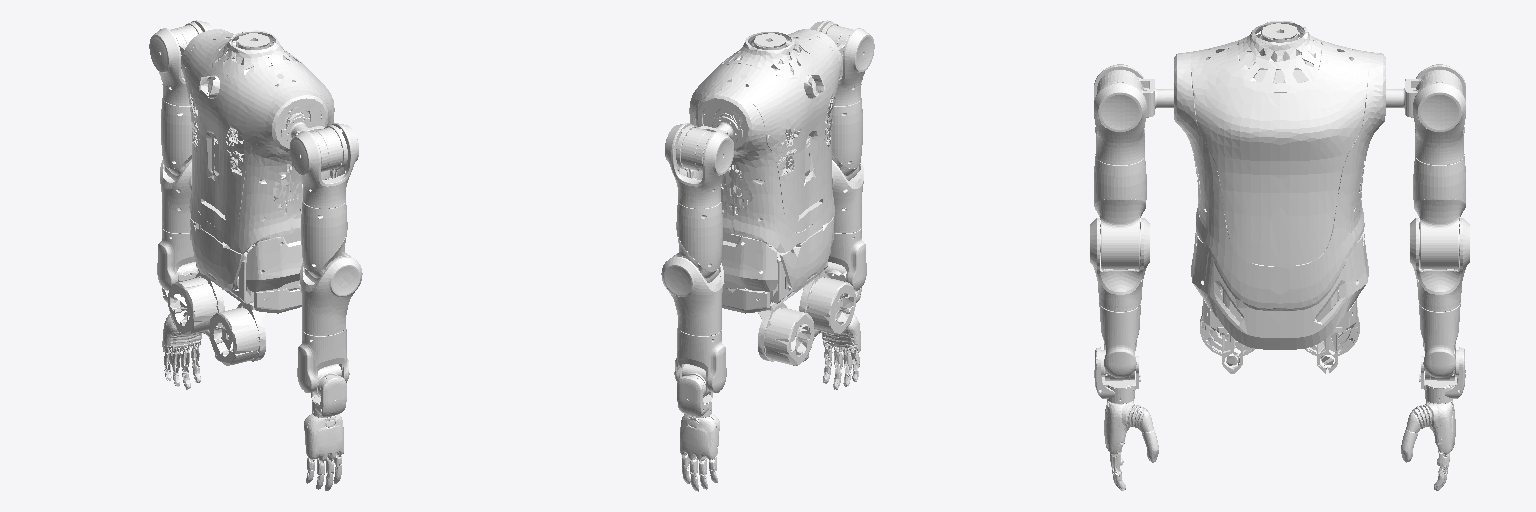
robot.urdf — biped_s47:
<?xml version='1.0' encoding='utf-8'?>
<robot name="biped_s47">
  <mujoco>
    <compiler meshdir="../meshes/" balanceinertia="true" discardvisual="false" />
  </mujoco>
  <link name="base_link">
    <inertial>
      <origin xyz="-0.0185005 0.00031952 0.1929569" rpy="0 0 0" />
      <mass value="27.65693803" />
      <inertia ixx="0.93103133" ixy="0.00011763" ixz="-0.07210993" iyy="0.82590532" iyz="6.9e-05" izz="0.27686612" />
    </inertial>
    <visual>
      <origin xyz="0 0 0" rpy="0 0 0" />
      <geometry>
        <mesh filename="../../meshes/torso.STL" />
      </geometry>
      <material name="">
        <color rgba="1 1 1 1" />
      </material>
    </visual>
  </link>
  <link name="zarm_l1_link">
    <inertial>
      <origin xyz="-0.00083 -0.02218 0.00035" rpy="0 0 0" />
      <mass value="0.962" />
      <inertia ixx="0.00225" ixy="-3e-05" ixz="0.0" iyy="0.00099" iyz="-2e-05" izz="0.00227" />
    </inertial>
    <visual>
      <origin xyz="0 0 0" rpy="0 0 0" />
      <geometry>
        <mesh filename="../../meshes/l_arm_pitch.STL" />
      </geometry>
      <material name="">
        <color rgba="1 1 1 1" />
      </material>
    </visual>
  </link>
  <joint name="zarm_l1_joint" type="revolute">
    <origin xyz="-0.017499853 0.29269999999999996 0.4245" rpy="0 0 0" />
    <parent link="base_link" />
    <child link="zarm_l1_link" />
    <axis xyz="0 1 0" />
    <limit lower="-3.14159265358979" upper="1.5707963267949" effort="100.0" velocity="41.3433333333333" />
    <dynamics damping="0.2" friction="0.0" />
  </joint>
  <link name="zarm_l2_link">
    <inertial>
      <origin xyz="-0.00791 0.0 -0.04655" rpy="0 0 0" />
      <mass value="0.57" />
      <inertia ixx="0.00163" ixy="0.0" ixz="5e-05" iyy="0.00211" iyz="0.0" izz="0.00122" />
    </inertial>
    <visual>
      <origin xyz="0 0 0" rpy="0 0 0" />
      <geometry>
        <mesh filename="../../meshes/l_arm_roll.STL" />
      </geometry>
      <material name="">
        <color rgba="1 1 1 1" />
      </material>
    </visual>
  </link>
  <joint name="zarm_l2_joint" type="revolute">
    <origin xyz="0 0 0" rpy="0 0 0" />
    <parent link="zarm_l1_link" />
    <child link="zarm_l2_link" />
    <axis xyz="1 0 0" />
    <limit lower="-0.349065850398866" upper="2.0943951023932" effort="50.0" velocity="8.37333333333333" />
    <dynamics damping="0.2" friction="0.0" />
  </joint>
  <link name="zarm_l3_link">
    <inertial>
      <origin xyz="0.00628 0.00107 -0.20878" rpy="0 0 0" />
      <mass value="1.65" />
      <inertia ixx="0.00815" ixy="-4e-05" ixz="0.00085" iyy="0.00828" iyz="0.00014" izz="0.00206" />
    </inertial>
    <visual>
      <origin xyz="0 0 0" rpy="0 0 0" />
      <geometry>
        <mesh filename="../../meshes/l_arm_yaw.STL" />
      </geometry>
      <material name="">
        <color rgba="1 1 1 1" />
      </material>
    </visual>
  </link>
  <joint name="zarm_l3_joint" type="revolute">
    <origin xyz="0 0 0" rpy="0 0 0" />
    <parent link="zarm_l2_link" />
    <child link="zarm_l3_link" />
    <axis xyz="0 0 1" />
    <limit lower="-1.5707963267949" upper="1.5707963267949" effort="39.0" velocity="19.3633333333333" />
    <dynamics damping="0.2" friction="0.0" />
  </joint>
  <link name="zarm_l4_link">
    <inertial>
      <origin xyz="-0.01611 0.00143 -0.04857" rpy="0 0 0" />
      <mass value="0.429" />
      <inertia ixx="0.00135" ixy="0.0" ixz="-0.0001" iyy="0.00114" iyz="0.0" izz="0.00083" />
    </inertial>
    <visual>
      <origin xyz="0 0 0" rpy="0 0 0" />
      <geometry>
        <mesh filename="../../meshes/l_forearm.STL" />
      </geometry>
      <material name="">
        <color rgba="1 1 1 1" />
      </material>
    </visual>
  </link>
  <joint name="zarm_l4_joint" type="revolute">
    <origin xyz="0.0199999999999998 0 -0.2837" rpy="0 0 0" />
    <parent link="zarm_l3_link" />
    <child link="zarm_l4_link" />
    <axis xyz="0 1 0" />
    <limit lower="-2.61799387799149" upper="0.0" effort="50.0" velocity="8.37333333333333" />
    <dynamics damping="0.2" friction="0.0" />
  </joint>
  <link name="zarm_l5_link">
    <inertial>
      <origin xyz="-0.00207 0.00018 -0.05079" rpy="0 0 0" />
      <mass value="0.61" />
      <inertia ixx="0.00107" ixy="0.0" ixz="-4e-05" iyy="0.00146" iyz="0.0" izz="0.00083" />
    </inertial>
    <visual>
      <origin xyz="0 0 0" rpy="0 0 0" />
      <geometry>
        <mesh filename="../../meshes/l_hand_yaw.STL" />
      </geometry>
      <material name="">
        <color rgba="1 1 1 1" />
      </material>
    </visual>
  </link>
  <joint name="zarm_l5_joint" type="revolute">
    <origin xyz="-0.0200000000000001 0 -0.127037274261587" rpy="0 0 0" />
    <parent link="zarm_l4_link" />
    <child link="zarm_l5_link" />
    <axis xyz="0 0 1" />
    <limit lower="-1.5707963267949" upper="1.5707963267949" effort="12.0" velocity="7.32666666666667" />
    <dynamics damping="0.2" friction="0.0" />
  </joint>
  <link name="zarm_l6_link">
    <inertial>
      <origin xyz="-0.00091 0.00326 -0.01338" rpy="0 0 0" />
      <mass value="0.331" />
      <inertia ixx="0.00022" ixy="0.0" ixz="0.0" iyy="0.00027" iyz="0.0" izz="0.00028" />
    </inertial>
    <visual>
      <origin xyz="0 0 0" rpy="0 0 0" />
      <geometry>
        <mesh filename="../../meshes/l_hand_roll.STL" />
      </geometry>
      <material name="">
        <color rgba="1 1 1 1" />
      </material>
    </visual>
  </link>
  <joint name="zarm_l6_joint" type="revolute">
    <origin xyz="0 0 -0.106462725738415" rpy="0 0 0" />
    <parent link="zarm_l5_link" />
    <child link="zarm_l6_link" />
    <axis xyz="1 0 0" />
    <limit lower="-1.30899693899575" upper="0.698131700797732" effort="12.0" velocity="7.32666666666667" />
    <dynamics damping="0.2" friction="0.0" />
  </joint>
  <link name="zarm_l7_link">
    <inertial>
      <origin xyz="3e-05 0.00038 -0.07987" rpy="0 0 0" />
      <mass value="0.36" />
      <inertia ixx="0.00023" ixy="0.0" ixz="0.0" iyy="0.00023" iyz="-2e-05" izz="9e-05" />
    </inertial>
    <visual>
      <origin xyz="0 0 0" rpy="0 0 0" />
      <geometry>
        <mesh filename="../../meshes/l_hand_pitch.STL" />
      </geometry>
      <material name="">
        <color rgba="1 1 1 1" />
      </material>
    </visual>
  </link>
  <joint name="zarm_l7_joint" type="revolute">
    <origin xyz="0 0 -0.0209999999999998" rpy="0 0 0" />
    <parent link="zarm_l6_link" />
    <child link="zarm_l7_link" />
    <axis xyz="0 1 0" />
    <limit lower="-0.698131700797732" upper="0.698131700797732" effort="12.0" velocity="7.32666666666667" />
    <dynamics damping="0.2" friction="0.0" />
  </joint>
  <link name="zarm_l7_end_effector">
    <collision>
      <origin rpy="0 0 0" xyz="0 0 0" />
      <geometry>
        <sphere radius="0.005" />
      </geometry>
    </collision>
  </link>
  <joint name="zarm_l7_end_effector_joint" type="fixed">
    <origin xyz="0 -0.03 -0.17" rpy="0 0 0" />
    <parent link="zarm_l7_link" />
    <child link="zarm_l7_end_effector" />
  </joint>
  <link name="zarm_r1_link">
    <inertial>
      <origin xyz="-0.00083 0.02218 0.00035" rpy="0 0 0" />
      <mass value="0.962" />
      <inertia ixx="0.00225" ixy="3e-05" ixz="0.0" iyy="0.00099" iyz="2e-05" izz="0.00227" />
    </inertial>
    <visual>
      <origin xyz="0 0 0" rpy="0 0 0" />
      <geometry>
        <mesh filename="../../meshes/r_arm_pitch.STL" />
      </geometry>
      <material name="">
        <color rgba="1 1 1 1" />
      </material>
    </visual>
  </link>
  <joint name="zarm_r1_joint" type="revolute">
    <origin xyz="-0.017499853 -0.29269999999999996 0.4245" rpy="0 0 0" />
    <parent link="base_link" />
    <child link="zarm_r1_link" />
    <axis xyz="0 1 0" />
    <limit lower="-3.14159265358979" upper="1.5707963267949" effort="100.0" velocity="41.3433333333333" />
    <dynamics damping="0.2" friction="0.0" />
  </joint>
  <link name="zarm_r2_link">
    <inertial>
      <origin xyz="-0.00791 0.0 -0.04655" rpy="0 0 0" />
      <mass value="0.57" />
      <inertia ixx="0.00163" ixy="0.0" ixz="5e-05" iyy="0.00211" iyz="0.0" izz="0.00122" />
    </inertial>
    <visual>
      <origin xyz="0 0 0" rpy="0 0 0" />
      <geometry>
        <mesh filename="../../meshes/r_arm_roll.STL" />
      </geometry>
      <material name="">
        <color rgba="1 1 1 1" />
      </material>
    </visual>
  </link>
  <joint name="zarm_r2_joint" type="revolute">
    <origin xyz="0 0 0" rpy="0 0 0" />
    <parent link="zarm_r1_link" />
    <child link="zarm_r2_link" />
    <axis xyz="1 0 0" />
    <limit lower="-2.0943951023932" upper="0.349065850398866" effort="50.0" velocity="8.37333333333333" />
    <dynamics damping="0.2" friction="0.0" />
  </joint>
  <link name="zarm_r3_link">
    <inertial>
      <origin xyz="0.00628 -0.00107 -0.20878" rpy="0 0 0" />
      <mass value="1.65" />
      <inertia ixx="0.00815" ixy="4e-05" ixz="0.00085" iyy="0.00828" iyz="-0.00014" izz="0.00206" />
    </inertial>
    <visual>
      <origin xyz="0 0 0" rpy="0 0 0" />
      <geometry>
        <mesh filename="../../meshes/r_arm_yaw.STL" />
      </geometry>
      <material name="">
        <color rgba="1 1 1 1" />
      </material>
    </visual>
  </link>
  <joint name="zarm_r3_joint" type="revolute">
    <origin xyz="0 0 0" rpy="0 0 0" />
    <parent link="zarm_r2_link" />
    <child link="zarm_r3_link" />
    <axis xyz="0 0 1" />
    <limit lower="-1.5707963267949" upper="1.5707963267949" effort="39.0" velocity="18.84" />
    <dynamics damping="0.2" friction="0.0" />
  </joint>
  <link name="zarm_r4_link">
    <inertial>
      <origin xyz="-0.01611 -0.00143 -0.04857" rpy="0 0 0" />
      <mass value="0.429" />
      <inertia ixx="0.00135" ixy="0.0" ixz="-0.0001" iyy="0.00114" iyz="0.0" izz="0.00083" />
    </inertial>
    <visual>
      <origin xyz="0 0 0" rpy="0 0 0" />
      <geometry>
        <mesh filename="../../meshes/r_forearm.STL" />
      </geometry>
      <material name="">
        <color rgba="1 1 1 1" />
      </material>
    </visual>
  </link>
  <joint name="zarm_r4_joint" type="revolute">
    <origin xyz="0.0199999999999998 0 -0.2837" rpy="0 0 0" />
    <parent link="zarm_r3_link" />
    <child link="zarm_r4_link" />
    <axis xyz="0 1 0" />
    <limit lower="-2.61799387799149" upper="0.0" effort="50.0" velocity="8.37333333333333" />
    <dynamics damping="0.2" friction="0.0" />
  </joint>
  <link name="zarm_r5_link">
    <inertial>
      <origin xyz="-0.00207 -0.00018 -0.05079" rpy="0 0 0" />
      <mass value="0.61" />
      <inertia ixx="0.00107" ixy="0.0" ixz="-4e-05" iyy="0.00146" iyz="0.0" izz="0.00083" />
    </inertial>
    <visual>
      <origin xyz="0 0 0" rpy="0 0 0" />
      <geometry>
        <mesh filename="../../meshes/r_hand_yaw.STL" />
      </geometry>
      <material name="">
        <color rgba="1 1 1 1" />
      </material>
    </visual>
  </link>
  <joint name="zarm_r5_joint" type="revolute">
    <origin xyz="-0.0200000000000001 0 -0.127037274261587" rpy="0 0 0" />
    <parent link="zarm_r4_link" />
    <child link="zarm_r5_link" />
    <axis xyz="0 0 1" />
    <limit lower="-1.5707963267949" upper="1.5707963267949" effort="12.0" velocity="7.32666666666667" />
    <dynamics damping="0.2" friction="0.0" />
  </joint>
  <link name="zarm_r6_link">
    <inertial>
      <origin xyz="-0.00111 -0.00335 -0.01335" rpy="0 0 0" />
      <mass value="0.331" />
      <inertia ixx="0.00022" ixy="0.0" ixz="0.0" iyy="0.00027" iyz="0.0" izz="0.00028" />
    </inertial>
    <visual>
      <origin xyz="0 0 0" rpy="0 0 0" />
      <geometry>
        <mesh filename="../../meshes/r_hand_roll.STL" />
      </geometry>
      <material name="">
        <color rgba="1 1 1 1" />
      </material>
    </visual>
  </link>
  <joint name="zarm_r6_joint" type="revolute">
    <origin xyz="0 0 -0.106462725738415" rpy="0 0 0" />
    <parent link="zarm_r5_link" />
    <child link="zarm_r6_link" />
    <axis xyz="1 0 0" />
    <limit lower="-0.698131700797732" upper="1.30899693899575" effort="12.0" velocity="7.32666666666667" />
    <dynamics damping="0.2" friction="0.0" />
  </joint>
  <link name="zarm_r7_link">
    <inertial>
      <origin xyz="-3e-05 -0.00038 -0.07987" rpy="0 0 0" />
      <mass value="0.36" />
      <inertia ixx="0.00023" ixy="0.0" ixz="0.0" iyy="0.00023" iyz="2e-05" izz="9e-05" />
    </inertial>
    <visual>
      <origin xyz="0 0 0" rpy="0 0 0" />
      <geometry>
        <mesh filename="../../meshes/r_hand_pitch.STL" />
      </geometry>
      <material name="">
        <color rgba="1 1 1 1" />
      </material>
    </visual>
  </link>
  <joint name="zarm_r7_joint" type="revolute">
    <origin xyz="0.000199999999999235 0 -0.0209999999999998" rpy="0 0 0" />
    <parent link="zarm_r6_link" />
    <child link="zarm_r7_link" />
    <axis xyz="0 1 0" />
    <limit lower="-0.698131700797732" upper="0.698131700797732" effort="12.0" velocity="7.32666666666667" />
    <dynamics damping="0.2" friction="0.0" />
  </joint>
  <link name="zarm_r7_end_effector">
    <collision>
      <origin rpy="0 0 0" xyz="0 0 0" />
      <geometry>
        <sphere radius="0.005" />
      </geometry>
    </collision>
  </link>
  <joint name="zarm_r7_end_effector_joint" type="fixed">
    <origin xyz="0 0.03 -0.17" rpy="0 0 0" />
    <parent link="zarm_r7_link" />
    <child link="zarm_r7_end_effector" />
  </joint>
  </robot>

--- Render facts (derived) ---
The picture shows the robot from 3 angles, left to right: view 1: azimuth 30°, elevation 25°; view 2: azimuth 150°, elevation 25°; view 3: azimuth 270°, elevation 25°; orthographic projection.
Model biped_s47 with 17 links and 16 joints (14 revolute, 2 fixed), rooted at base_link, posed all joints at 0.
Links seen in each view (by area): view 1: base_link, zarm_r7_link, zarm_r4_link, zarm_r2_link, zarm_r3_link, zarm_r5_link, zarm_l2_link, zarm_l3_link, zarm_l7_link, zarm_l4_link, zarm_r1_link, zarm_l5_link; view 2: base_link, zarm_l7_link, zarm_l4_link, zarm_l2_link, zarm_l3_link, zarm_l5_link, zarm_r2_link, zarm_r3_link, zarm_r7_link, zarm_r4_link, zarm_l1_link, zarm_r5_link; view 3: base_link, zarm_l3_link, zarm_r3_link, zarm_l2_link, zarm_r2_link, zarm_r7_link, zarm_l7_link, zarm_l4_link, zarm_r4_link, zarm_l5_link, zarm_r5_link, zarm_l1_link (+1 smaller).
Link boxes in pixels (x1,y1,x2,y2): base_link: (168,29,334,365); zarm_r7_link: (304,376,346,490); zarm_r4_link: (300,257,362,335); zarm_r2_link: (290,123,358,208); zarm_r3_link: (301,202,353,282); zarm_r5_link: (297,329,349,392); zarm_l2_link: (149,20,213,105); zarm_l3_link: (161,98,191,180); zarm_l7_link: (162,288,218,389); zarm_l4_link: (160,160,191,233); zarm_r1_link: (281,116,347,171); zarm_l5_link: (157,228,194,290); base_link: (689,29,855,365); zarm_l7_link: (677,376,719,491); zarm_l4_link: (661,257,723,335); zarm_l2_link: (665,123,733,208); zarm_l3_link: (670,202,722,282); zarm_l5_link: (674,328,726,392); zarm_r2_link: (810,20,874,105); zarm_r3_link: (832,98,862,180); zarm_r7_link: (804,288,861,389); zarm_r4_link: (832,160,863,233); zarm_l1_link: (676,116,742,171); zarm_r5_link: (828,228,866,290); base_link: (1174,21,1385,373); zarm_l3_link: (1413,156,1465,268); zarm_r3_link: (1094,156,1146,268); zarm_l2_link: (1413,64,1465,164); zarm_r2_link: (1094,64,1146,164); zarm_r7_link: (1094,347,1158,490); zarm_l7_link: (1401,347,1465,490); zarm_l4_link: (1410,218,1469,311); zarm_r4_link: (1090,218,1149,311); zarm_l5_link: (1419,303,1460,377); zarm_r5_link: (1099,303,1140,377); zarm_l1_link: (1386,70,1464,117).
Bounding box of the posed robot: 0.2827 × 0.6954 × 0.9256 m (x, y, z).
15 mesh visuals loaded from 15 distinct referenced files (15 binary STL).